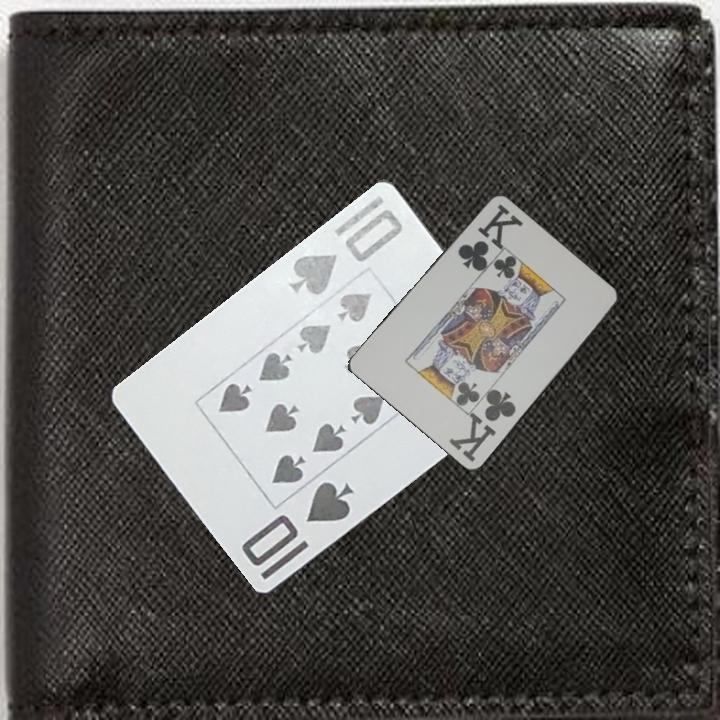Kc: (446, 386, 519, 465), (453, 201, 522, 274)
Ts: (237, 477, 357, 583), (283, 204, 406, 298)
